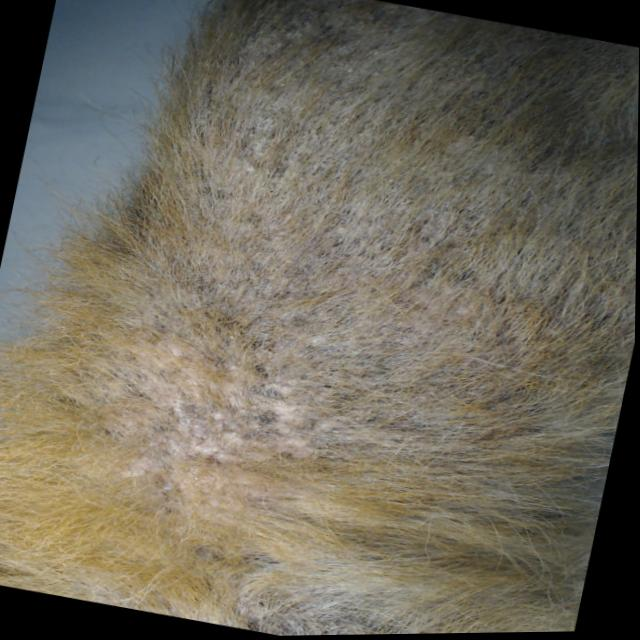demodicosis: (163, 24, 378, 228), (121, 312, 346, 502), (264, 581, 403, 637)
